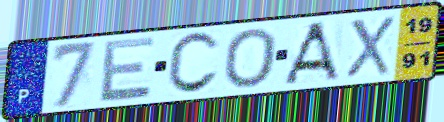7: (50, 38, 99, 111)
A: (281, 19, 343, 85)
C: (164, 29, 223, 97)
E: (98, 34, 158, 106)
O: (220, 26, 279, 90)
X: (343, 14, 397, 80)
